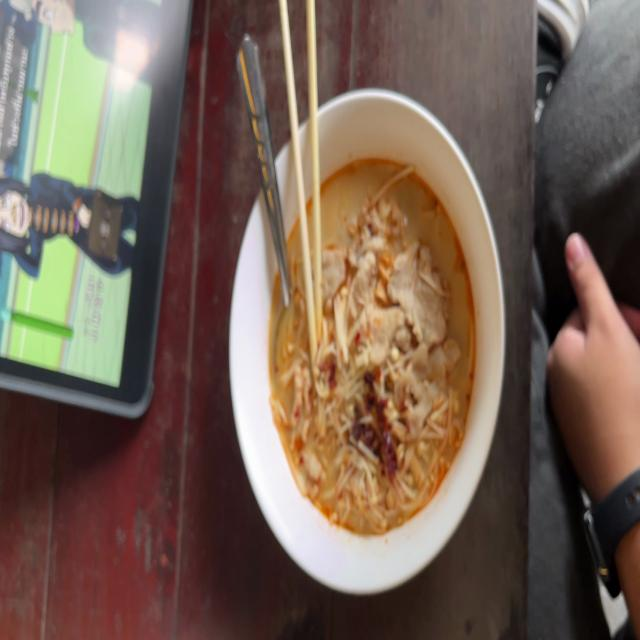noodle: (257, 148, 493, 556)
